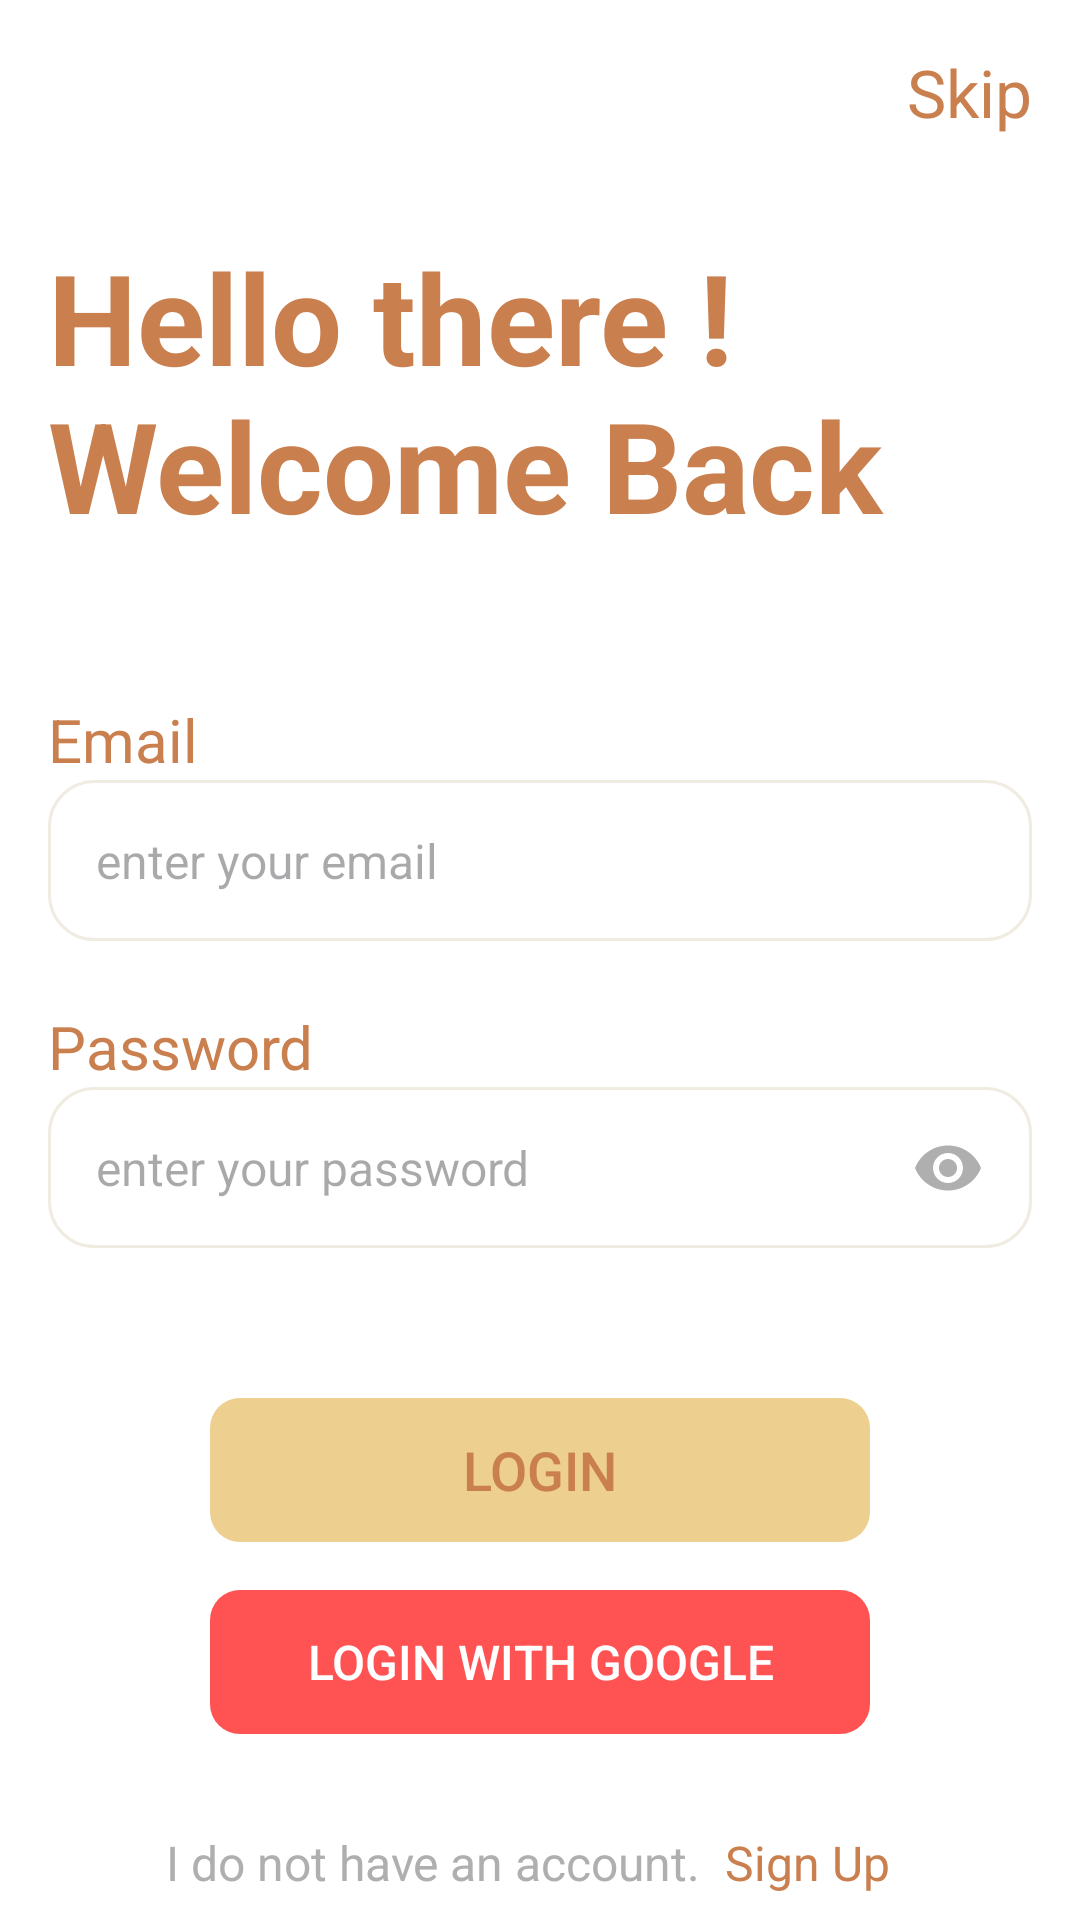

Icons on this 1080×1920 Android screen, each with the point to tap as point (x, y):
open eye: point (948, 1168)
